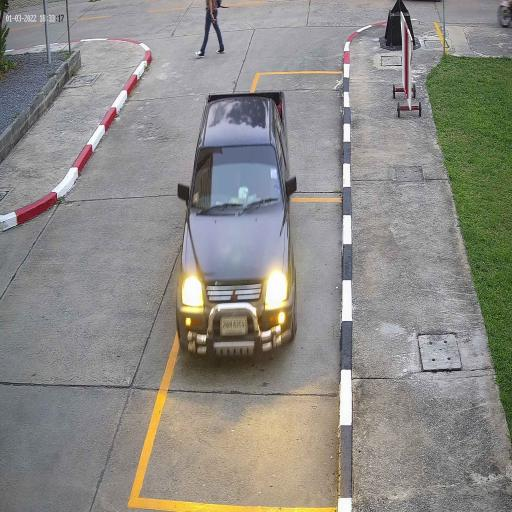car: (175, 88, 298, 362)
